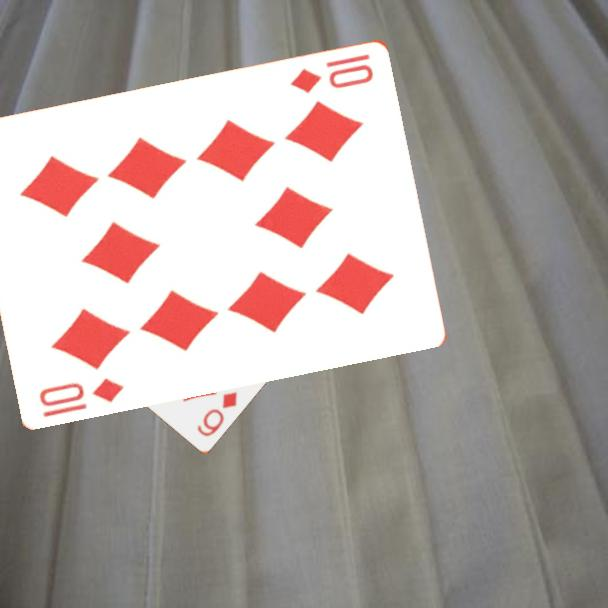d06: (193, 387, 240, 439)
d10: (287, 50, 377, 96), (36, 374, 127, 419)
